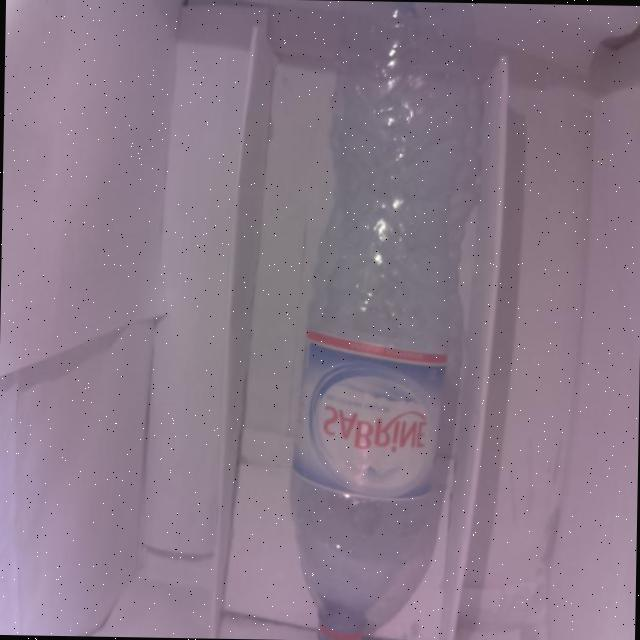bottle: (273, 2, 495, 640)
label: (274, 351, 464, 485)
